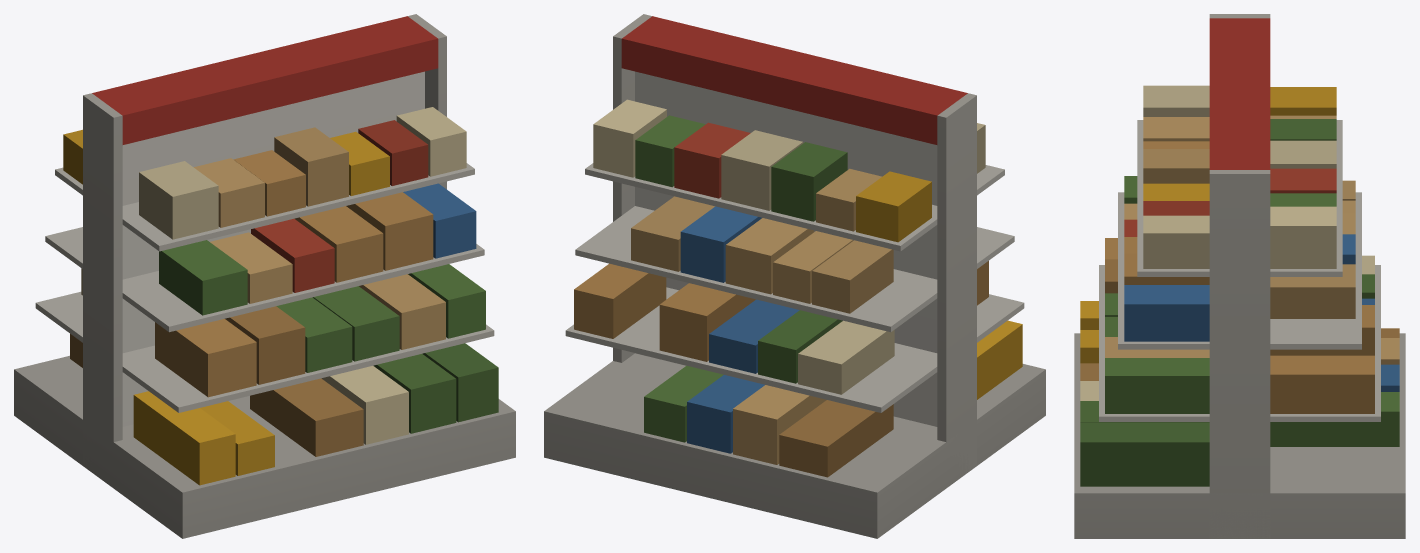
Rendered from shelf.gondola.boxes.glb.
3 views of the same model, side by side, from view 1: azimuth 30°, elevation 25°; view 2: azimuth 150°, elevation 25°; view 3: azimuth 270°, elevation 25° (orthographic).
Visible parts, largest first — view 1: shelf_gondola_boxes; view 2: shelf_gondola_boxes; view 3: shelf_gondola_boxes.
Boxes of the visible parts, x1,y1,x2,y2 form: shelf_gondola_boxes: (14,14,515,538); shelf_gondola_boxes: (544,14,1045,538); shelf_gondola_boxes: (1074,14,1405,538).
Size of what is drawn, in the model's own units: 1.88 by 2 by 1.65.
